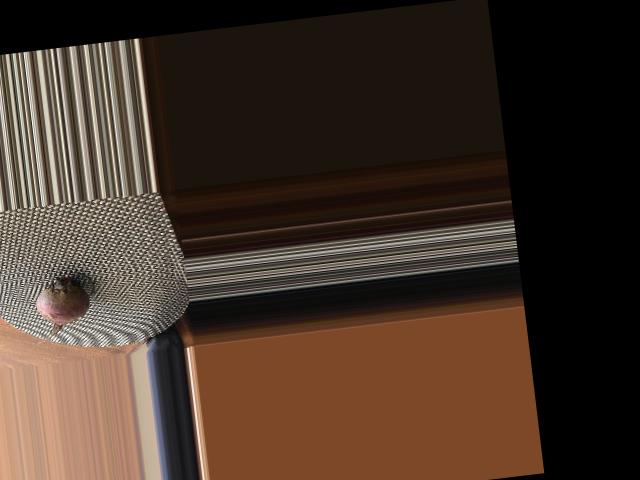beet: (24, 270, 101, 344)
